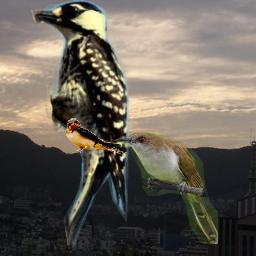Cuckoo: (113, 132, 218, 244)
Swallow: (65, 118, 129, 157)
Woodpecker: (29, 0, 134, 249)
